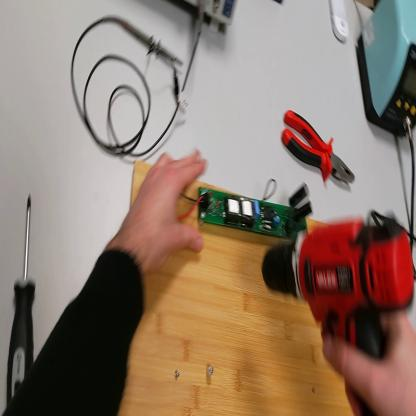electric screwdriver: (261, 207, 414, 415)
hand: (124, 151, 210, 274), (322, 304, 416, 416)
high voltage board: (183, 181, 317, 239)
oscilloscope: (183, 1, 236, 27)
oscilloscope probe tip: (117, 16, 185, 66)
pliers: (282, 107, 355, 186)
screwdriver-: (6, 187, 39, 407)
welder station: (355, 1, 415, 137)
working area: (117, 161, 355, 416)
